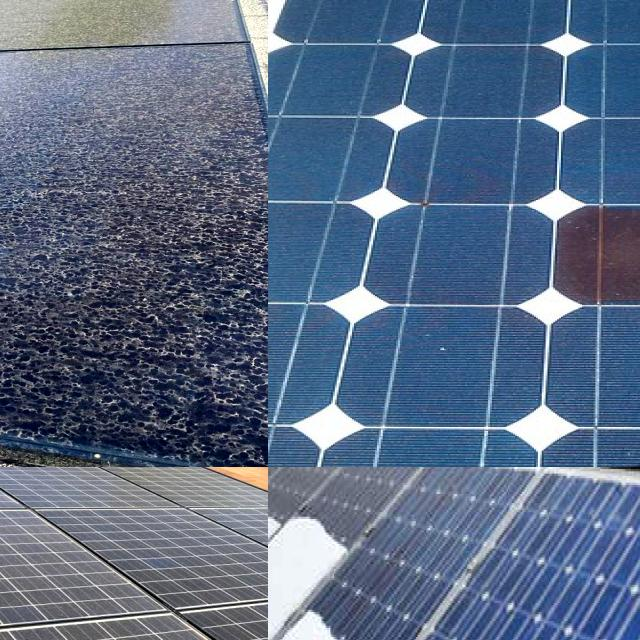dust: (0, 172, 268, 358), (38, 365, 268, 455), (0, 88, 268, 165), (0, 176, 79, 401), (0, 197, 40, 412), (6, 0, 209, 38), (0, 220, 46, 380), (0, 23, 94, 93), (38, 558, 128, 629), (0, 515, 53, 633), (15, 57, 248, 82), (0, 58, 47, 170), (0, 98, 28, 178)
panel: (268, 505, 354, 608)
shadow: (532, 204, 640, 351)
